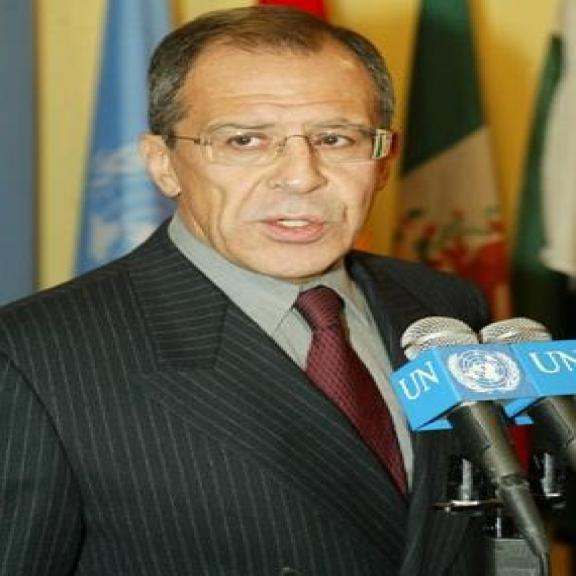face: (144, 42, 382, 280)
